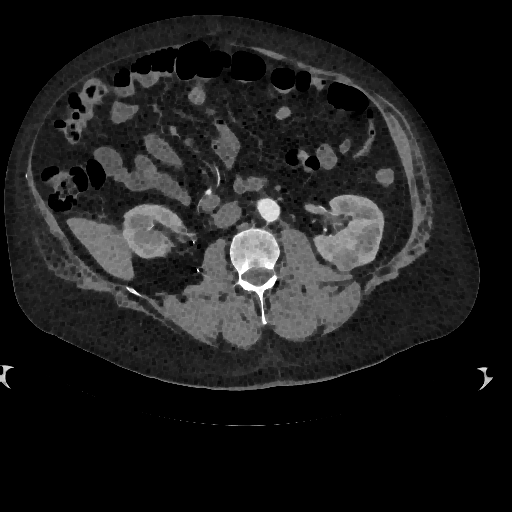Lesion: (327, 244, 363, 275)
